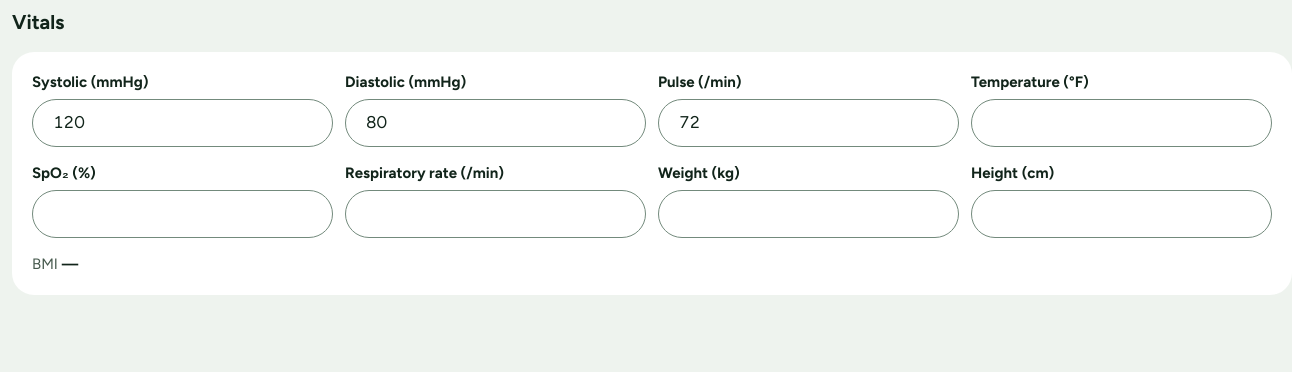
VitalsSection (plan §12.2; D202, D206) › holds the readings in their fields, offering Save vitals once something is typed
Expected: the field labelled "Systolic (mmHg)" holds "120", [32,99,333,147]
Expected: the field labelled "Pulse (/min)" holds "72", [658,99,959,147]
Step 1. Type "98.6" into the field labelled "Temperature (°F)" → (1122, 123), box [971,99,1272,147]
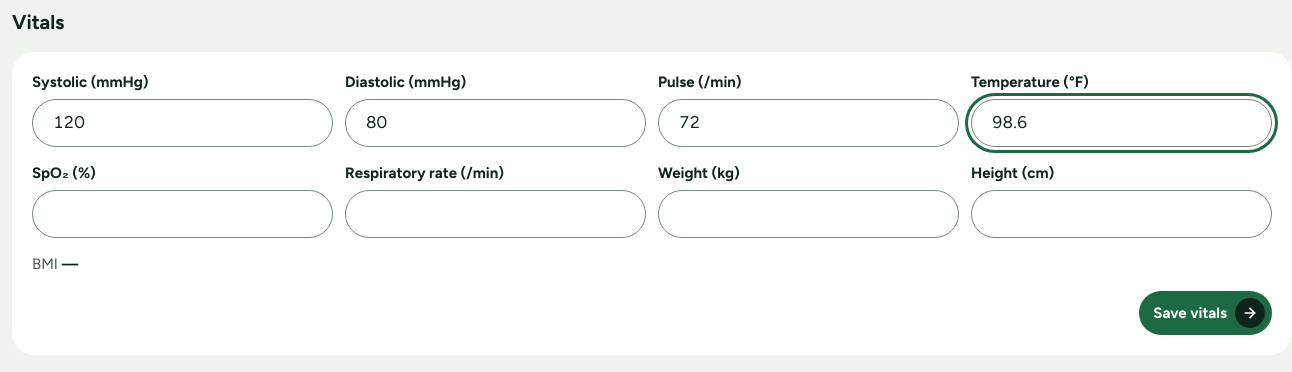
Now the button "Save vitals" is shown, box [1139,291,1272,335]
